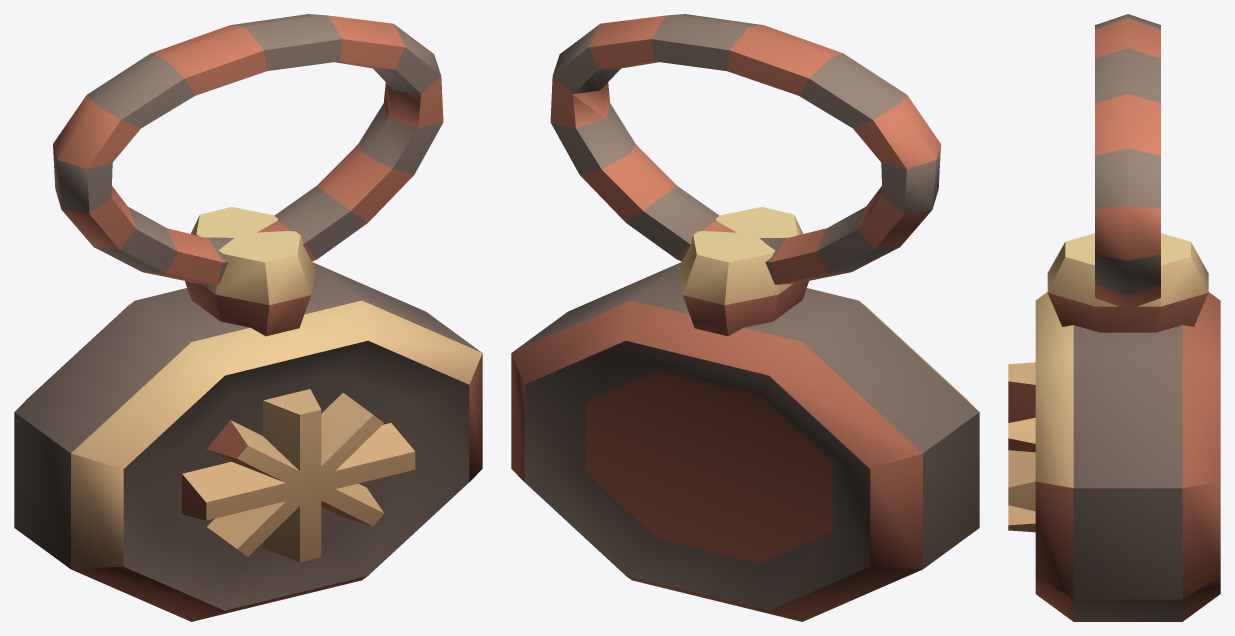
File: amulet_wood_druid_talisman.glb
3 renders of one model, left to right at view 1: azimuth 30°, elevation 25°; view 2: azimuth 150°, elevation 25°; view 3: azimuth 270°, elevation 25°, orthographic. The views are drawn at different scales.
Visible parts, largest first — view 1: Item; view 2: Item; view 3: Item.
Boxes of the visible parts, x1,y1,x2,y2 form: Item: [14, 14, 482, 621]; Item: [511, 14, 979, 621]; Item: [1008, 14, 1220, 621].
Size of the model in its own units: 0.56 by 0.72 by 0.26.
Materials: 1 (1 with a texture image).
